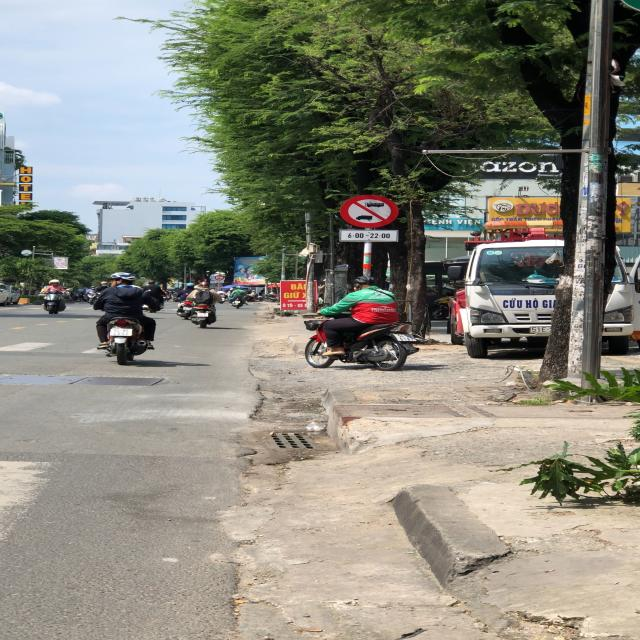Bien bao cam xe oto khach va xe oto tai: (336, 193, 405, 231)
